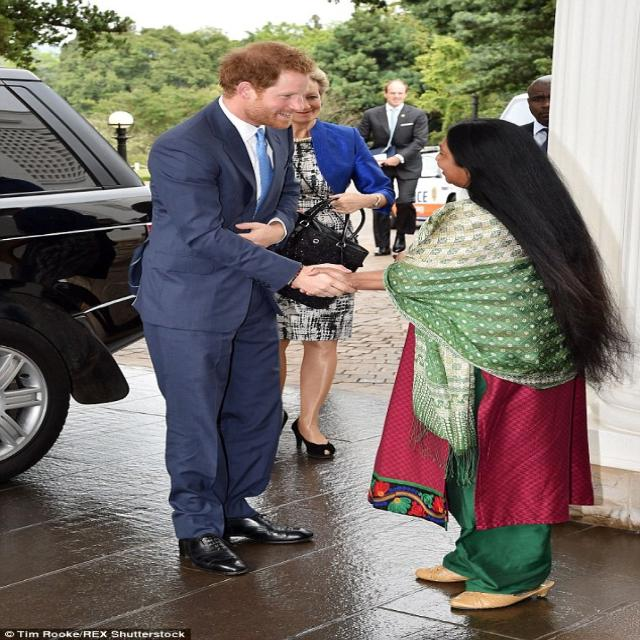body: (287, 114, 639, 614), (128, 38, 360, 578), (266, 58, 398, 462), (356, 78, 430, 257), (516, 74, 557, 152)
